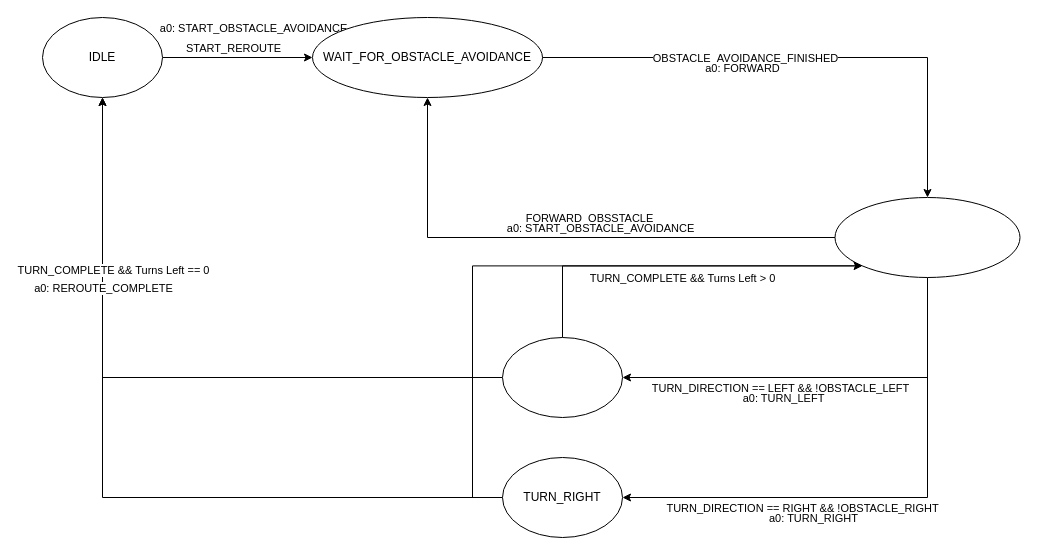
Some shapes in this 1038 by 555 pixel diagram are drawn without their labels. The shapes that lost their labels are listed below. From the top down, each one's centre as x and y in pixels, then its label:
At (927,237): "WAIT_FOR_TURN".
At (562,377): "TURN_LEFT".
